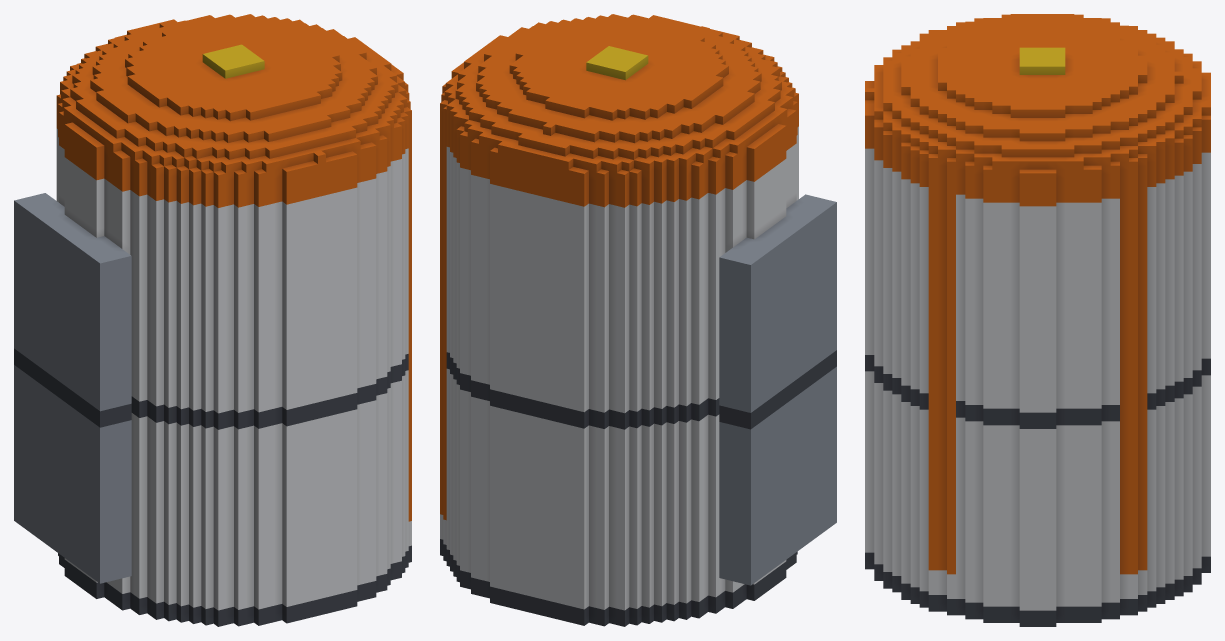
The model's file is parachute_radial.glb.
3 views of the same model, side by side, from view 1: azimuth 30°, elevation 25°; view 2: azimuth 150°, elevation 25°; view 3: azimuth 270°, elevation 25° (orthographic).
Parts seen in each view (by area): view 1: parachute_radial; view 2: parachute_radial; view 3: parachute_radial.
Boxes of the visible parts, x1,y1,x2,y2 form: parachute_radial: [14, 14, 411, 626]; parachute_radial: [440, 14, 836, 626]; parachute_radial: [865, 14, 1210, 626].
Bounding box in the file's own units: 0.6562 × 0.9375 × 0.5938.
